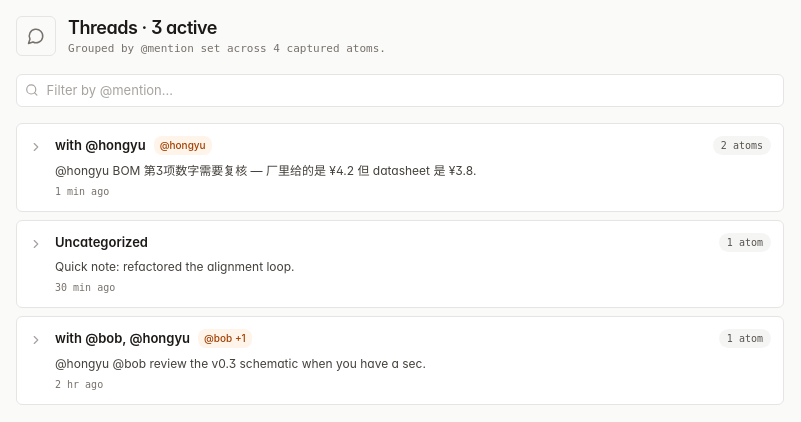
Test: Wave 2 B2 — /threads route › renders filtered-empty state when search matches nothing
Type "zzz-no-match-xyz" into the search field with test id "threads-search-input" at (411, 90), box left=47, top=80, right=775, bottom=100
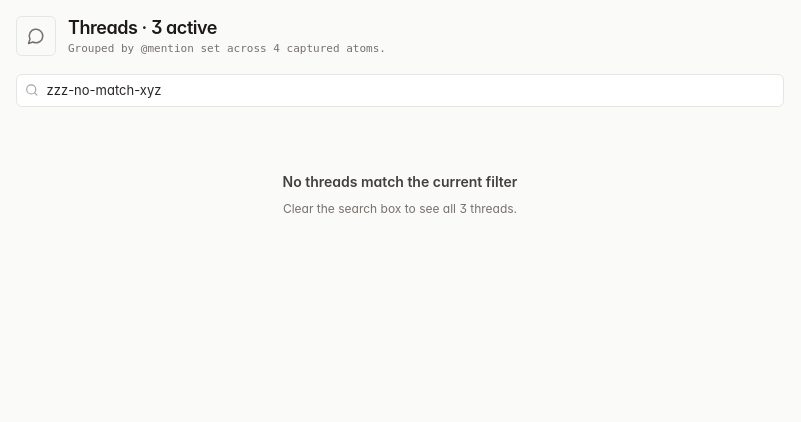
Expected: the element with test id "threads-empty-filtered" is shown, left=282, top=173, right=517, bottom=216
